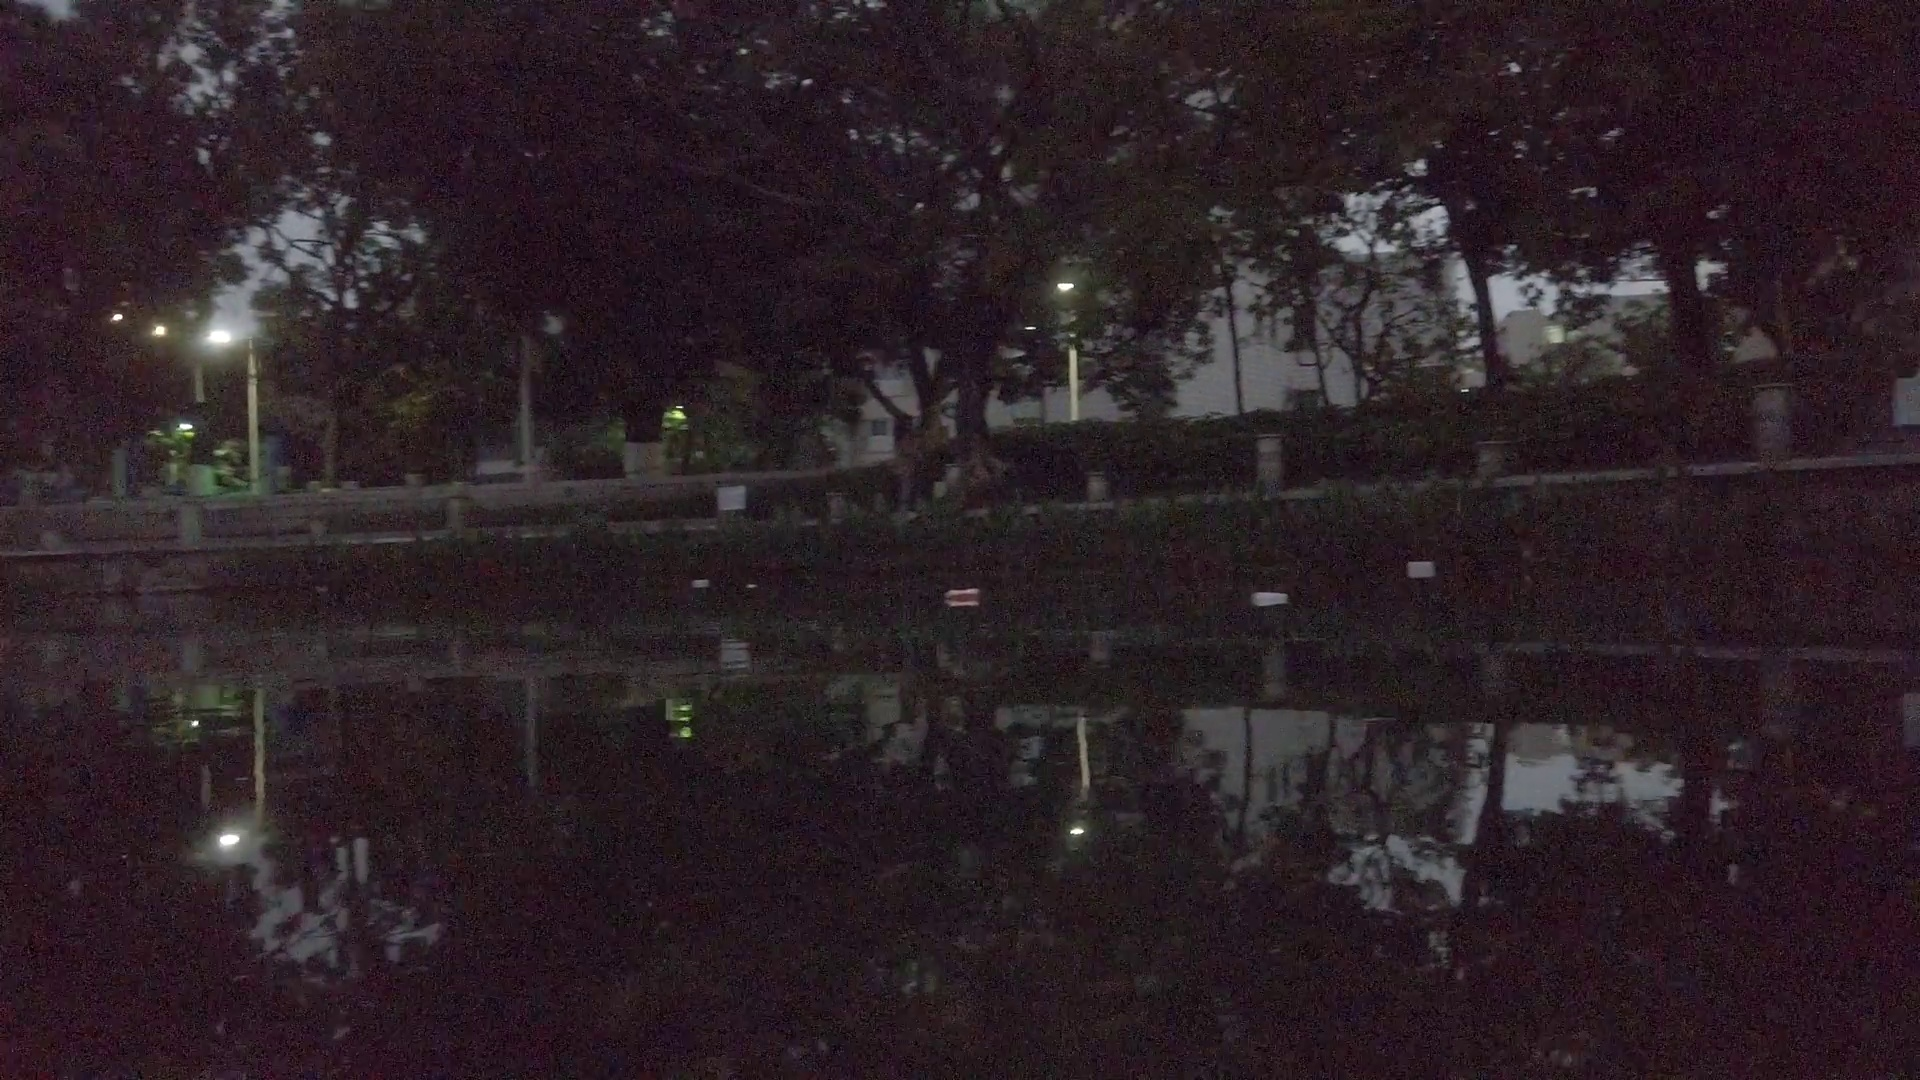bottle: (945, 585, 978, 601)
carton: (1251, 589, 1288, 607), (1408, 559, 1437, 578), (691, 578, 709, 588)
